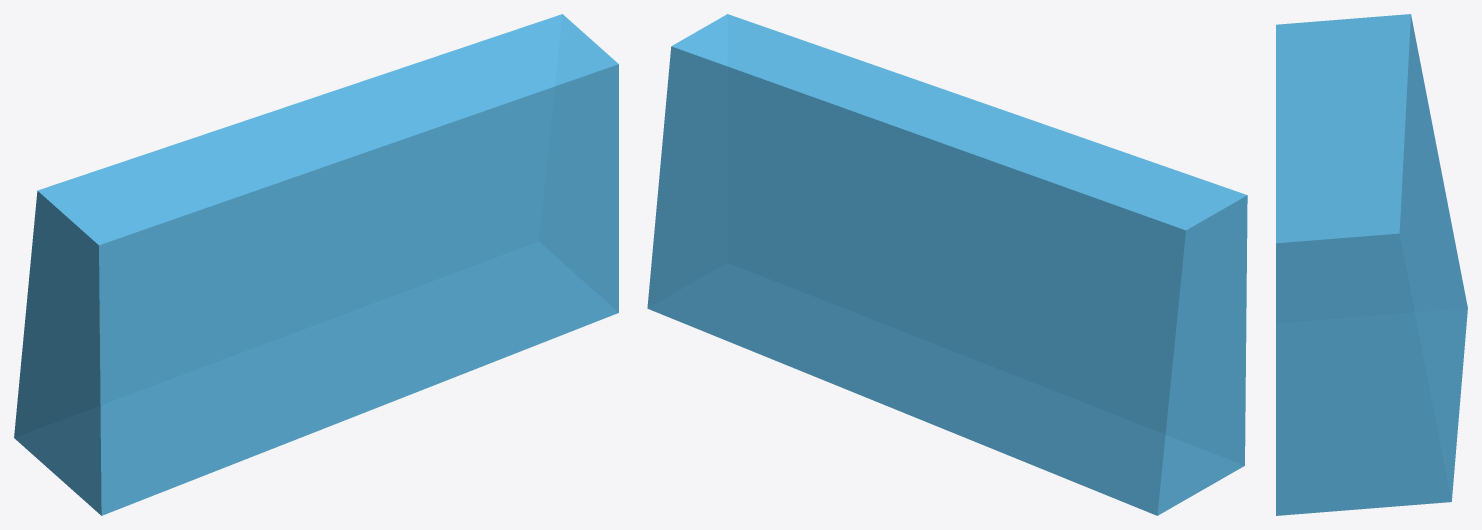
The model's file is Event_421115418_HErechit_100.fbx.
3 renders of one model, left to right at view 1: azimuth 30°, elevation 25°; view 2: azimuth 150°, elevation 25°; view 3: azimuth 270°, elevation 25°, orthographic. The views are drawn at different scales.
Parts seen in each view (by area): view 1: Model; view 2: Model; view 3: Model.
Boxes of the visible parts, x1,y1,x2,y2 form: Model: (14,14,618,515); Model: (647,14,1247,515); Model: (1276,14,1467,515).
Size of the model in its own units: 1.02 by 0.6287 by 0.2983.
